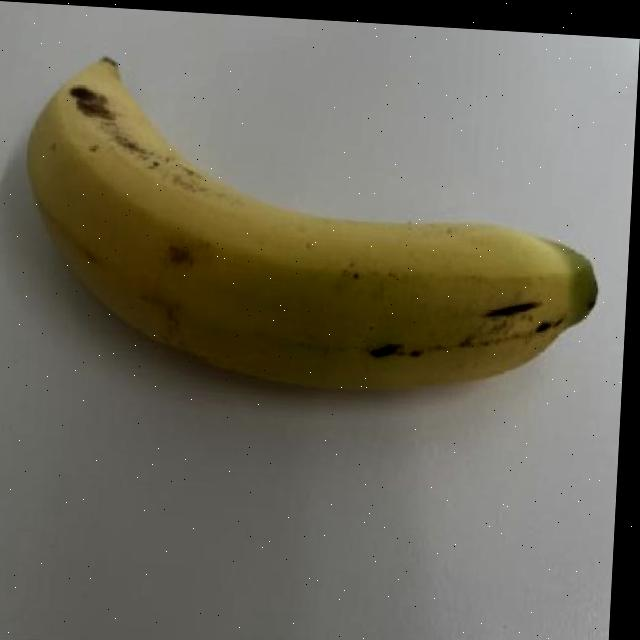banana: (9, 42, 618, 417)
